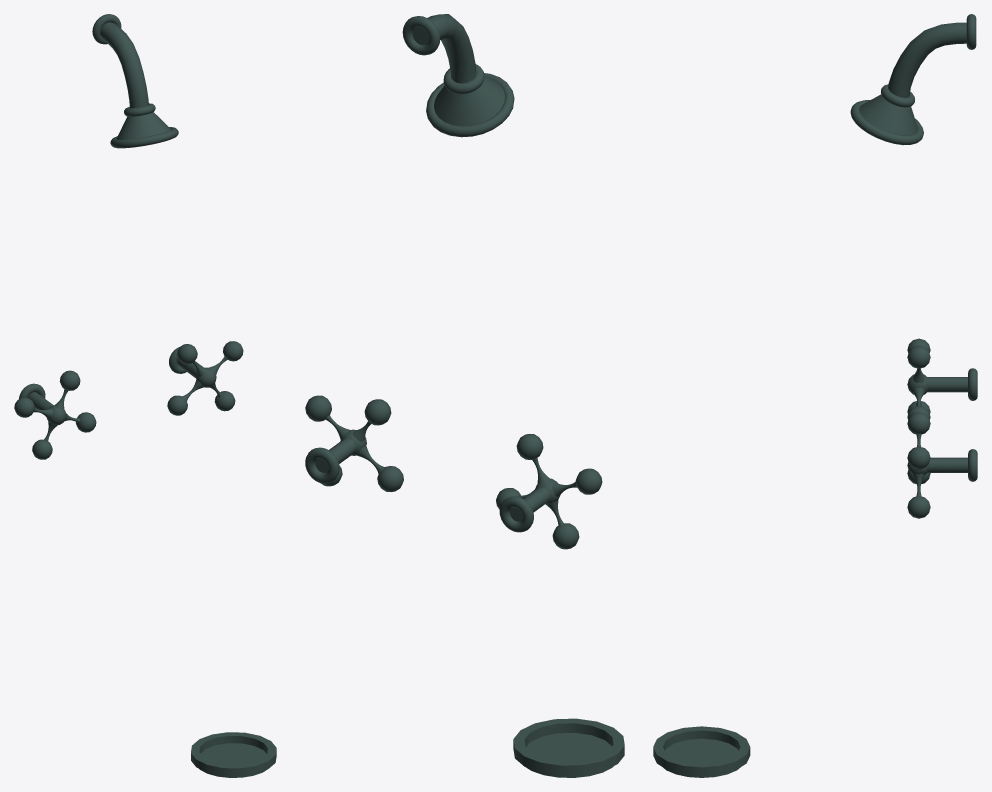
The model's file is ducha.FBX.
3 views of the same model, side by side, from view 1: azimuth 30°, elevation 25°; view 2: azimuth 150°, elevation 25°; view 3: azimuth 270°, elevation 25° (orthographic). The views are drawn at different scales.
Parts seen in each view (by area): view 1: Tube001, Loft001, Cylinder003, Cone001, Torus003; view 2: Tube001, Cone001, Loft001, Cylinder003, Torus003, Torus001, Torus005, Torus004, Torus002, Sphere002, Sphere012, Sphere004 (+5 smaller); view 3: Tube001, Loft001, Cylinder003, Cone001, Torus003, Cylinder002, Cylinder001.
Part boxes in pixels (x1,y1,x2,y2): Tube001: (191, 732, 276, 776); Loft001: (100, 22, 148, 108); Cylinder003: (199, 743, 266, 777); Cone001: (116, 112, 170, 139); Torus003: (110, 127, 178, 148); Tube001: (513, 718, 624, 775); Cone001: (434, 76, 504, 126); Loft001: (412, 14, 475, 83); Cylinder003: (526, 733, 613, 777); Torus003: (426, 73, 514, 137); Torus001: (402, 16, 440, 55); Torus005: (499, 496, 533, 532); Torus004: (305, 447, 339, 483); Torus002: (443, 64, 484, 94); Sphere002: (364, 399, 391, 425); Sphere012: (575, 468, 602, 494); Sphere004: (305, 395, 331, 421); Tube001: (653, 726, 750, 776); Loft001: (888, 22, 966, 97); Cylinder003: (664, 738, 740, 777); Cone001: (859, 94, 917, 135); Torus003: (850, 100, 923, 145); Cylinder002: (927, 377, 967, 392); Cylinder001: (927, 457, 967, 472).
Bounding box in the file's own units: 30.19 × 84.12 × 33.42.
